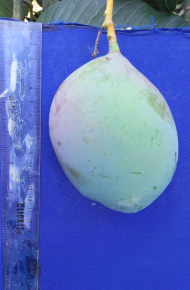Mango-sano: (49, 52, 177, 212)
